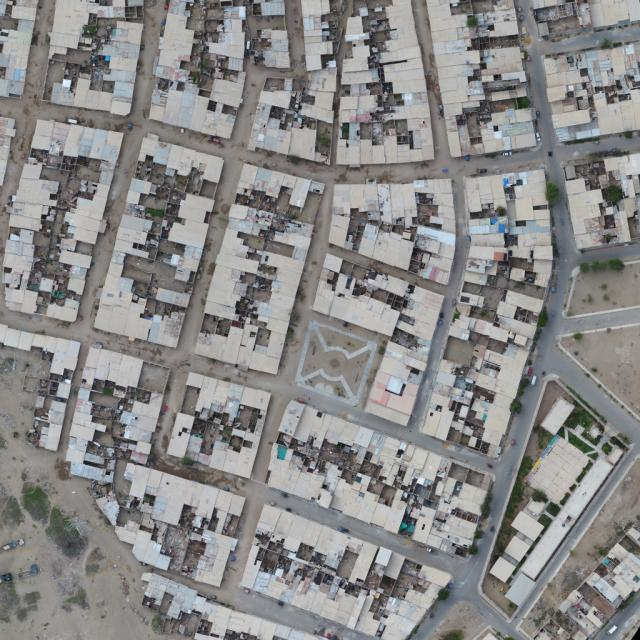building: (21, 316, 322, 640), (417, 156, 569, 462), (258, 397, 498, 562), (82, 131, 237, 355), (233, 498, 455, 640), (282, 251, 453, 427), (187, 161, 325, 378), (145, 0, 256, 140), (329, 179, 458, 284), (41, 0, 147, 118), (164, 370, 275, 481), (44, 155, 116, 325), (373, 0, 434, 164), (561, 152, 640, 251), (473, 44, 538, 153), (337, 16, 382, 165), (1, 162, 45, 312), (248, 96, 338, 165), (31, 118, 124, 165), (250, 28, 291, 68), (485, 5, 519, 43), (16, 177, 59, 206), (0, 118, 15, 184), (15, 188, 58, 206), (259, 88, 291, 108), (207, 333, 228, 361), (195, 332, 214, 358), (261, 1, 284, 16), (0, 145, 9, 183), (361, 139, 372, 163), (372, 145, 385, 163), (284, 79, 292, 91)
dryland: (0, 349, 185, 639), (19, 150, 100, 300), (130, 154, 199, 318), (46, 8, 120, 94), (562, 262, 640, 316), (428, 597, 489, 640), (243, 213, 293, 262), (245, 262, 279, 306)
metalled_road: (504, 440, 640, 634), (481, 580, 553, 637)
unmetalled_road: (53, 0, 398, 463), (0, 66, 321, 366), (379, 134, 503, 301), (348, 151, 544, 192), (324, 241, 450, 298), (412, 0, 450, 159), (429, 86, 441, 131)
